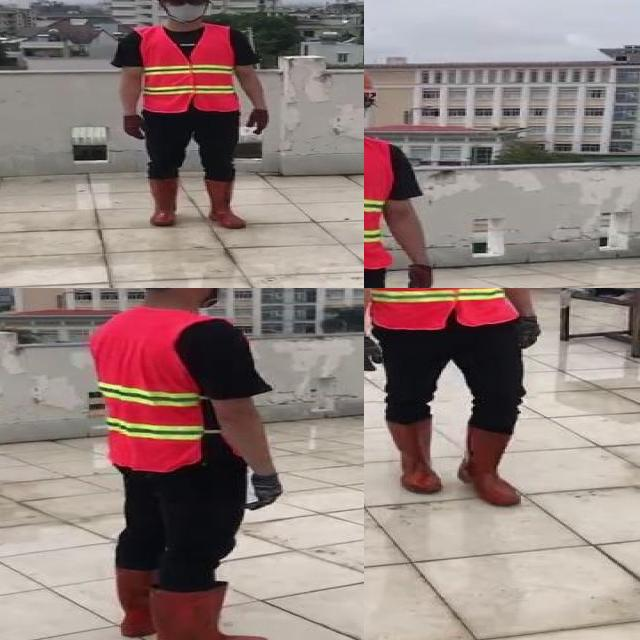boots: (154, 583, 275, 640), (457, 422, 523, 506), (381, 416, 448, 495), (109, 560, 162, 640), (202, 180, 244, 230), (144, 175, 182, 227)
hand_glove: (246, 470, 282, 512), (512, 313, 544, 351), (364, 335, 384, 374), (408, 265, 431, 288)
head_helmet: (107, 0, 282, 230)
person: (68, 288, 296, 640), (364, 288, 549, 511), (364, 57, 441, 288)
vest: (89, 307, 206, 471), (137, 24, 239, 114), (364, 288, 517, 327), (364, 135, 394, 271)
